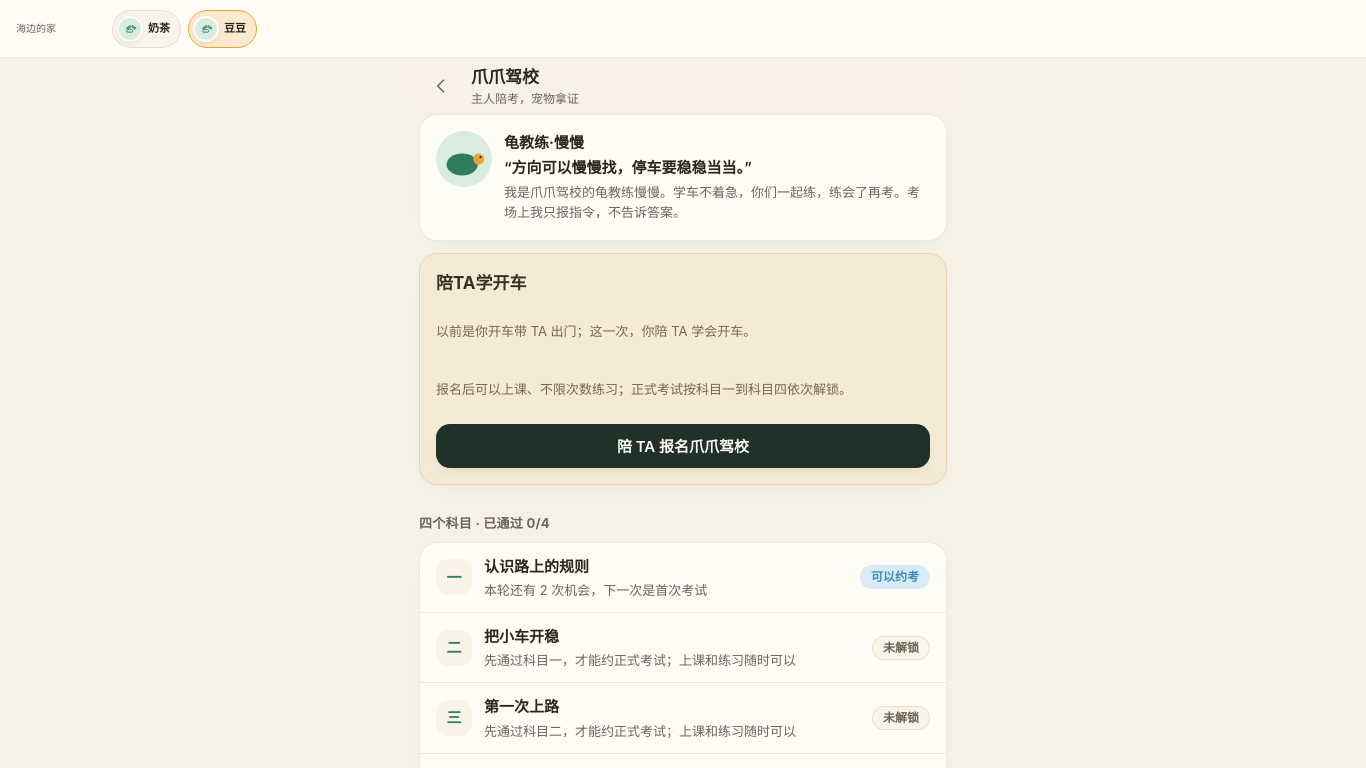
Test case: 驾校：每条都带当前宠物 › 首页：豆豆还没报名——报名带 pet-b；切到奶茶，历史按 pet-a 读出来（不再因 409 不见）
Click the button "陪 TA 报名爪爪驾校" at (683, 446), box [436,424,930,468]
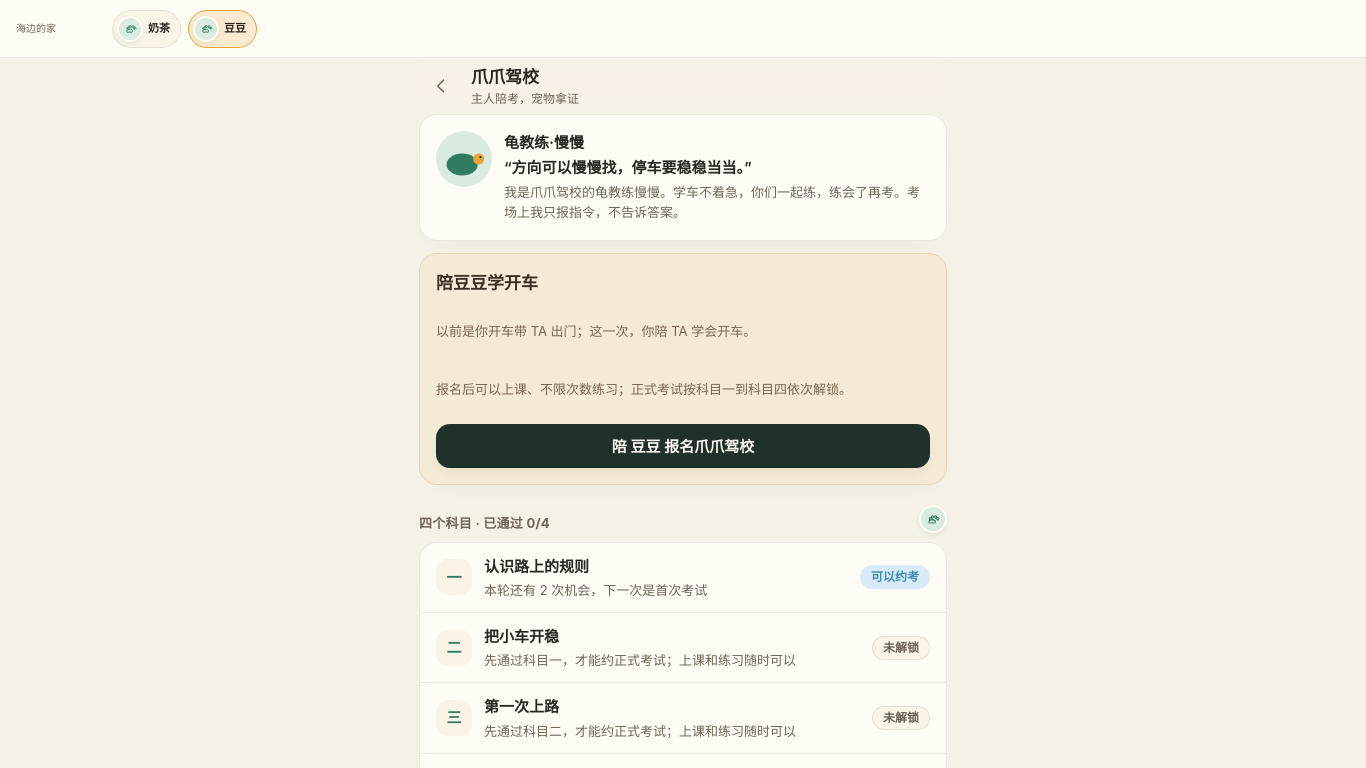
Click the button "奶茶" at (146, 28), box [112,10,181,48]
(page scrolled)
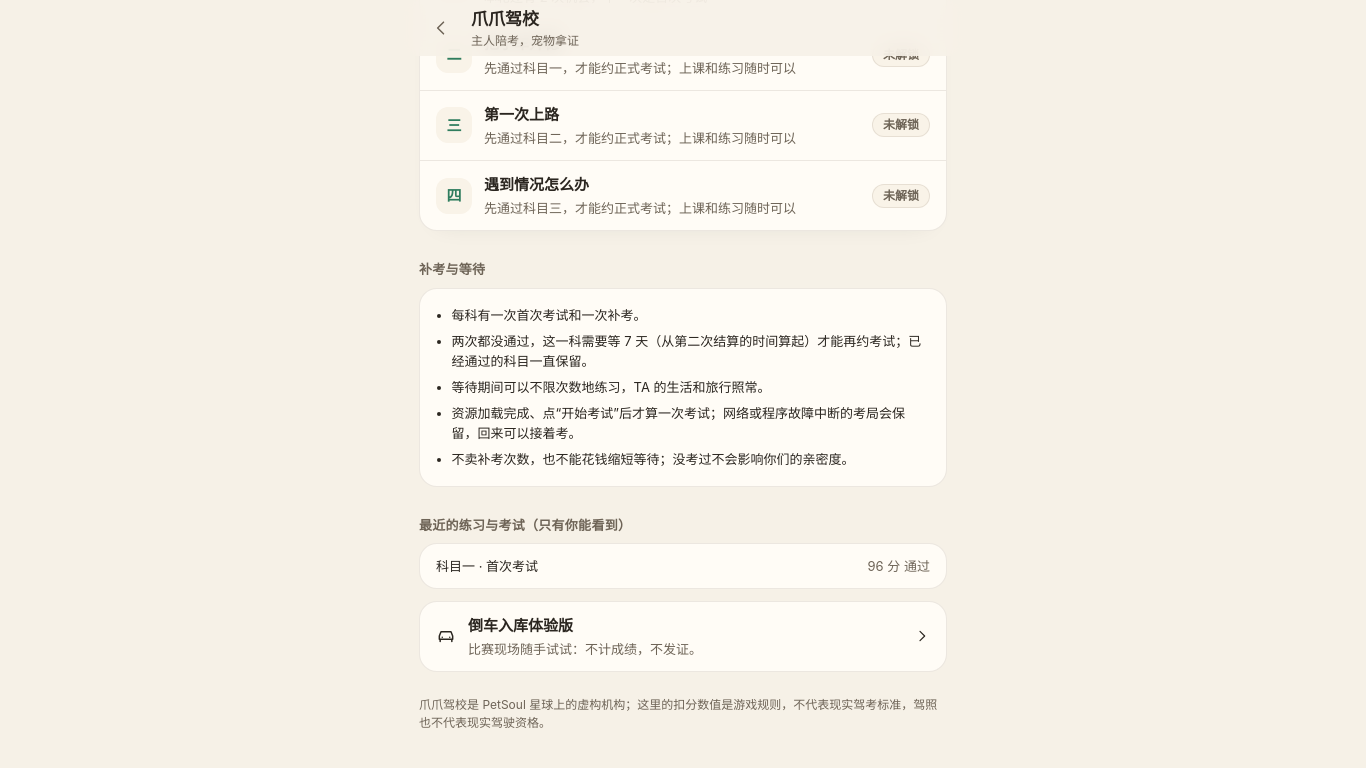
Expected: the heading "最近的练习与考试（只有你能看到）" is shown, [419,517,631,533]
